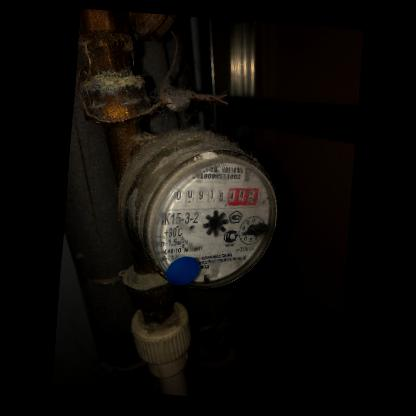digital_screen: (170, 182, 226, 209)
